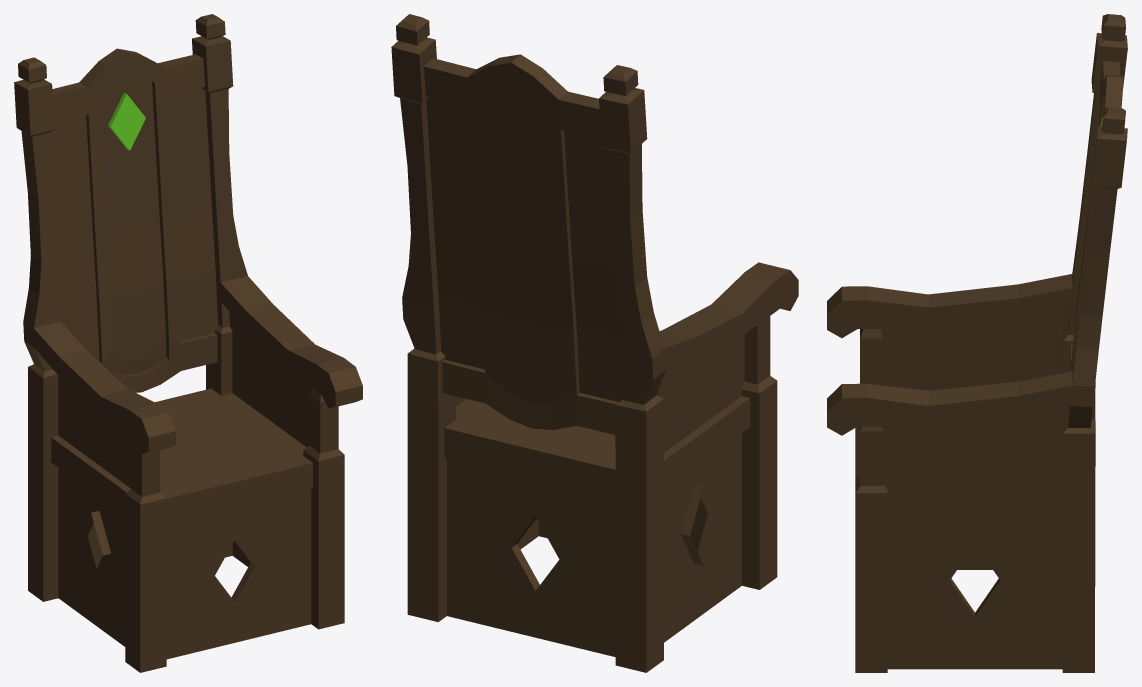
Rendered from Throne.glb.
3 views of the same model, side by side, from view 1: azimuth 30°, elevation 25°; view 2: azimuth 150°, elevation 25°; view 3: azimuth 270°, elevation 25° (orthographic). The views are drawn at different scales.
Parts seen in each view (by area): view 1: Throne.001; view 2: Throne.001; view 3: Throne.001.
Boxes of the visible parts, box(x1,y1,x2,y2) form: Throne.001: box(14, 14, 362, 672); Throne.001: box(391, 14, 798, 672); Throne.001: box(827, 14, 1127, 672).
Bounding box in the file's own units: 0.716 × 1.66 × 0.8153.
Materials: 2 (2 with a texture image).
